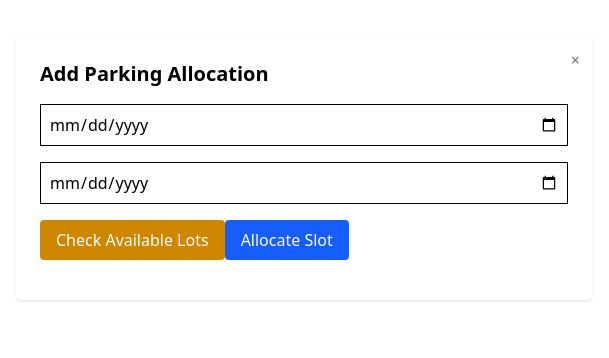
Scenario: AddAllocation component › shows error if no registered vehicles when submitting
Type "2025-08-01" into the 1st date field named "fromDate" at coordinates (304, 125), box [40,104,568,146]
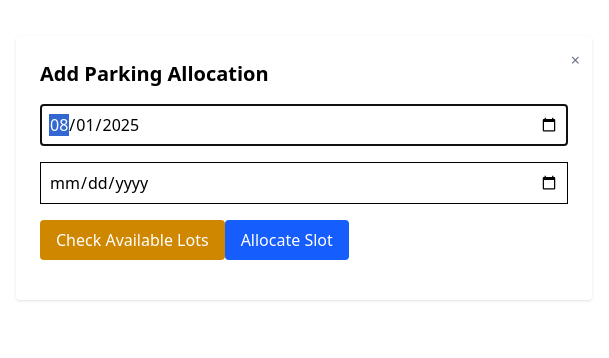
Type "2025-08-05" into the 2nd date field named "toDate" at coordinates (304, 183), box [40,162,568,204]
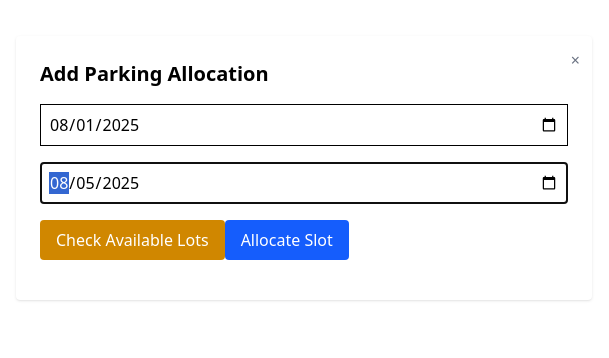
Click the button "Allocate Slot" at coordinates (287, 240), box [225,220,349,260]
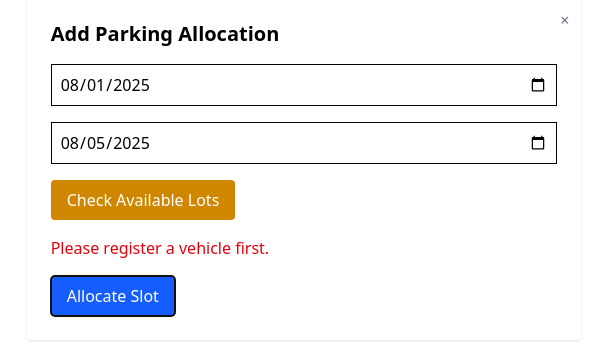
Check: the text "Please register a vehicle first." is shown, box [51,237,269,259]
